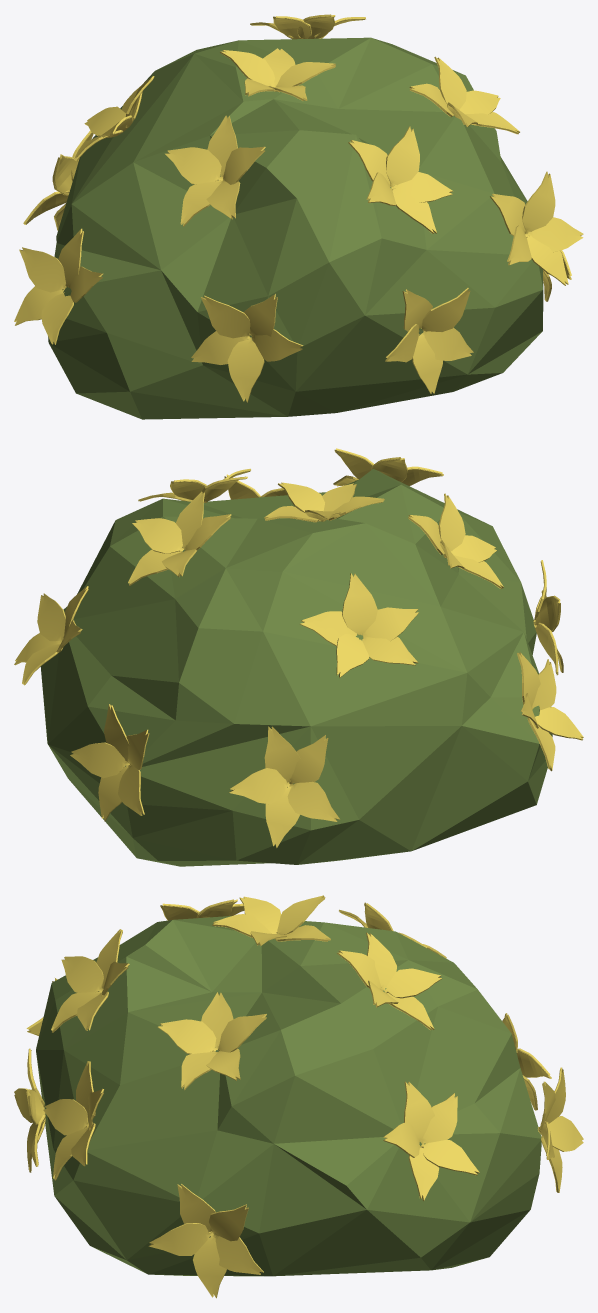
Rendered from N_green_and_gold.fbx.
The picture shows the model from 3 angles, top to bottom: view 1: azimuth 30°, elevation 25°; view 2: azimuth 150°, elevation 25°; view 3: azimuth 270°, elevation 25°; orthographic projection.
Parts seen in each view (by area): view 1: N_green_and_gold; view 2: N_green_and_gold; view 3: N_green_and_gold.
Part boxes in pixels (x1,y1,x2,y2): N_green_and_gold: (14, 14, 583, 419); N_green_and_gold: (14, 448, 583, 866); N_green_and_gold: (14, 895, 583, 1298).
Bounding box in the file's own units: 3.79 × 2.33 × 3.8.
